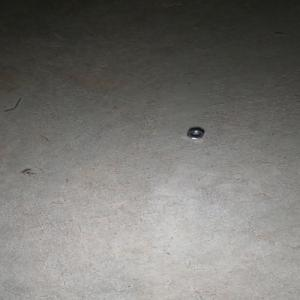Nut: (186, 129, 205, 140)
